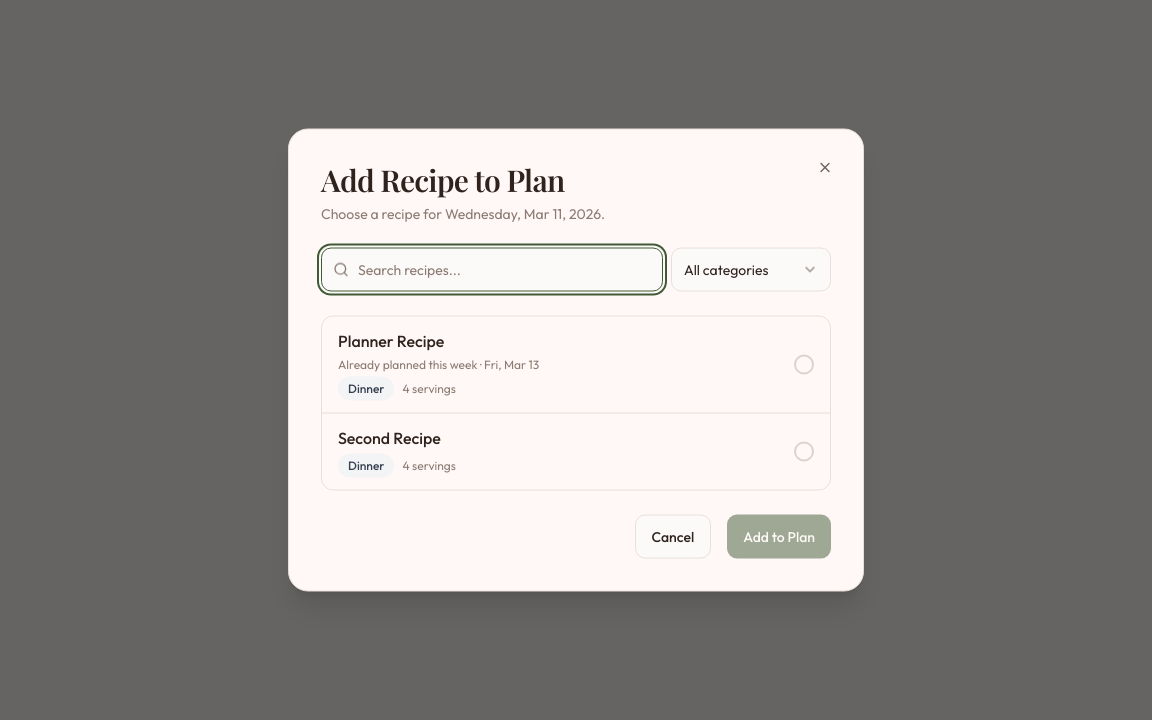
Scenario: AddRecipeToPlanModal › shows the selected calendar date and week-wide duplicates without restricting selection
Expected: the text "Choose a recipe for Wednesday, Mar 11, 2026." is shown, [321,204,605,222]
Expected: the text "Already planned this week · Fri, Mar 13" is shown, [338,356,539,372]
Click the button "Planner Recipe". click: (391, 340)
box: [322,316,830,412]
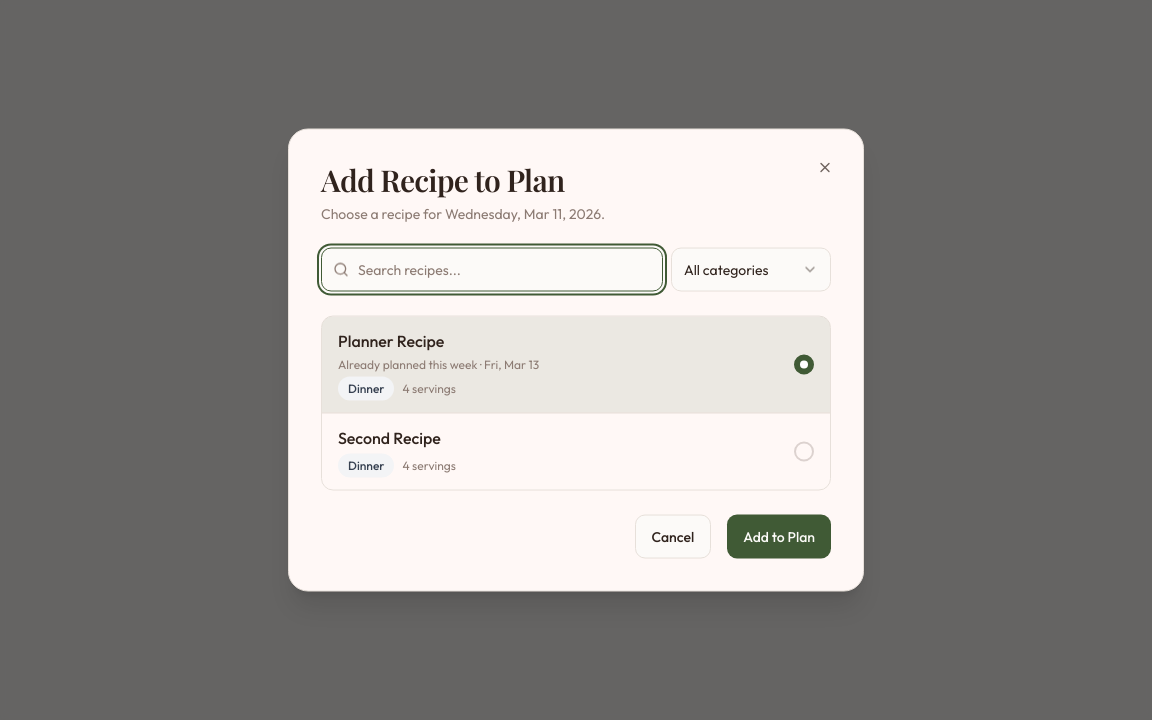
Expected: the button "Add to Plan" is enabled, [727,514,831,558]
